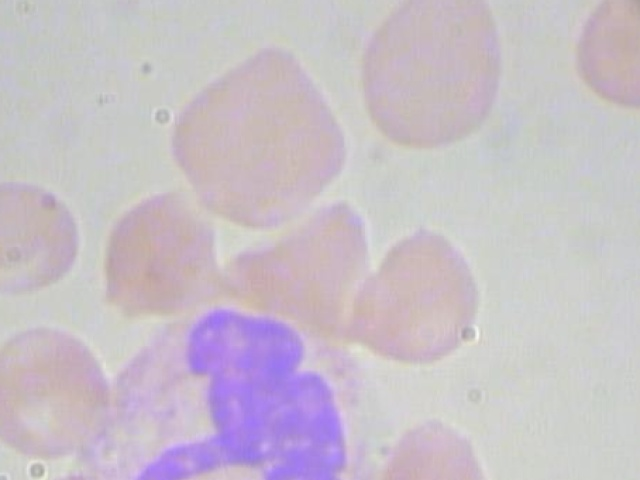RBC: (152, 36, 350, 241), (344, 196, 507, 367), (352, 0, 525, 154), (352, 374, 515, 480), (0, 323, 119, 468), (0, 175, 95, 305), (567, 0, 640, 116), (620, 374, 640, 480)
WBC: (75, 301, 388, 480)
